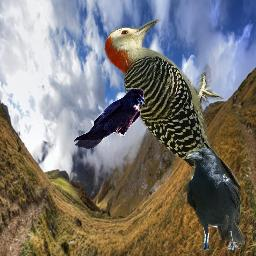Crow: (187, 148, 245, 250), (74, 88, 145, 149)
Woodpecker: (100, 19, 243, 205)
